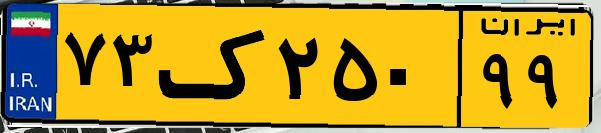0: (385, 28, 445, 110)
2: (270, 28, 330, 110)
3: (110, 28, 158, 98)
5: (330, 28, 385, 110)
7: (57, 26, 110, 100)
9: (475, 38, 525, 113), (525, 38, 570, 115)
ک: (158, 12, 270, 120)
